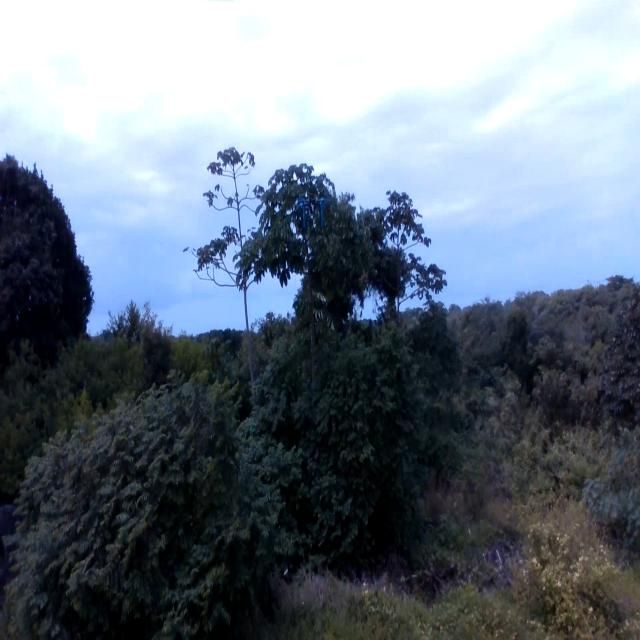-uav-: (282, 184, 348, 244)
